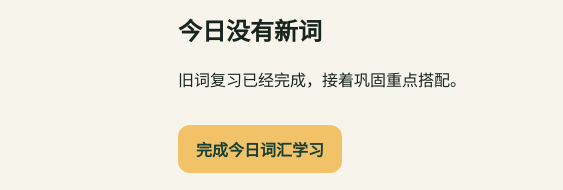
Test: DailyVocabularySession › completes vocabulary without embedding the separate culture translation
Click the button "完成今日词汇学习".
click(260, 149)  # box [178,125,342,173]
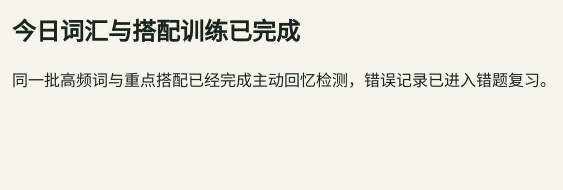
Expected: the heading "今日词汇与搭配训练已完成" is shown, [12,17,300,46]
